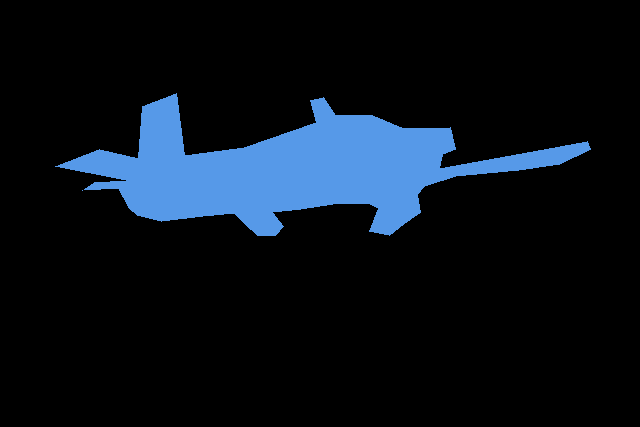Airplane: (55, 93, 591, 236)
